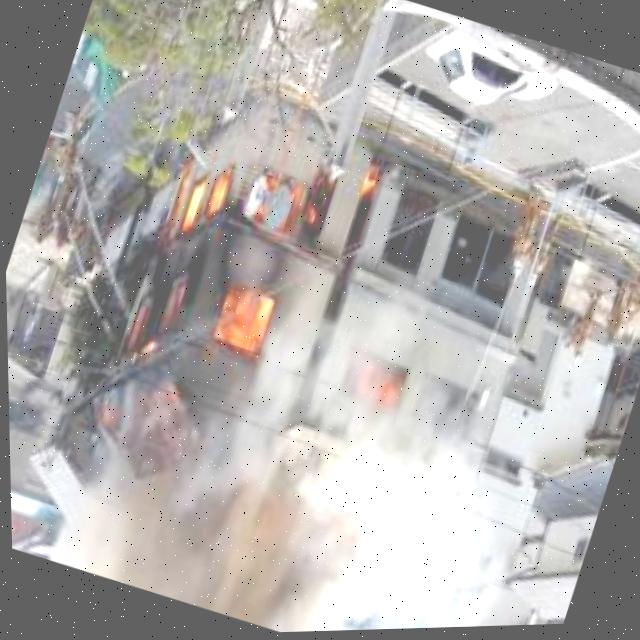Fire: (62, 85, 393, 473)
Smoke: (34, 407, 575, 639)
